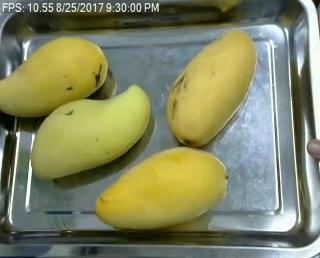Mango: (31, 85, 150, 180), (97, 146, 226, 229), (166, 30, 256, 146), (0, 35, 107, 117)
